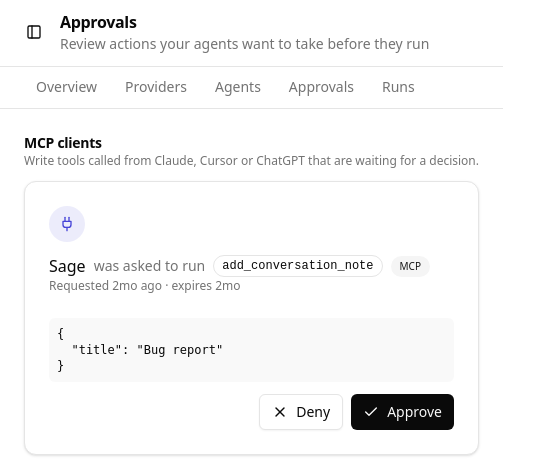
Test: ApprovalsPage › records a deny decision for an MCP approval
Expected: the text "add_conversation_note" is shown, [213,255,382,277]
Click the button "Deny" at (301, 412), box [259,394,343,430]
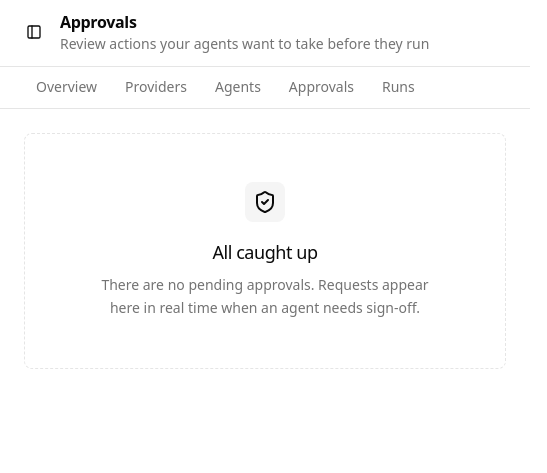
Result: the text "add_conversation_note" is gone
